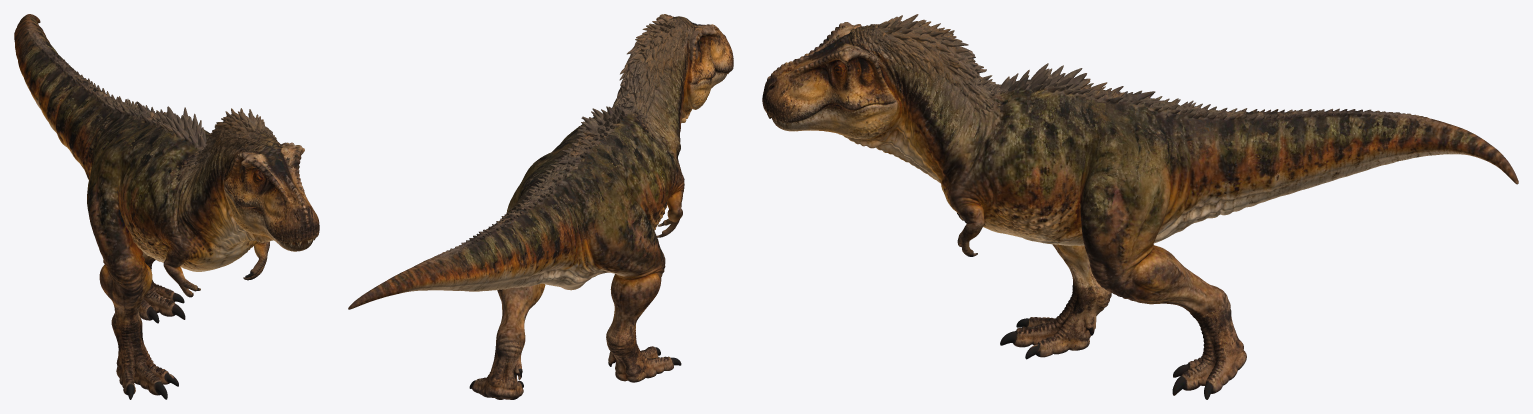
File: preview.glb
3 views of the same model, side by side, from view 1: azimuth 30°, elevation 25°; view 2: azimuth 150°, elevation 25°; view 3: azimuth 270°, elevation 25° (orthographic). The views are drawn at different scales.
Parts seen in each view (by area): view 1: realistic-t-rex; view 2: realistic-t-rex; view 3: realistic-t-rex.
Part boxes in pixels (left/top/right/bottom): realistic-t-rex: left=14, top=14, right=319, bottom=399; realistic-t-rex: left=348, top=14, right=733, bottom=399; realistic-t-rex: left=762, top=14, right=1518, bottom=399.
Size of the model in its own units: 2.94 by 6.18 by 12.
Materials: 1 (1 with a texture image).
